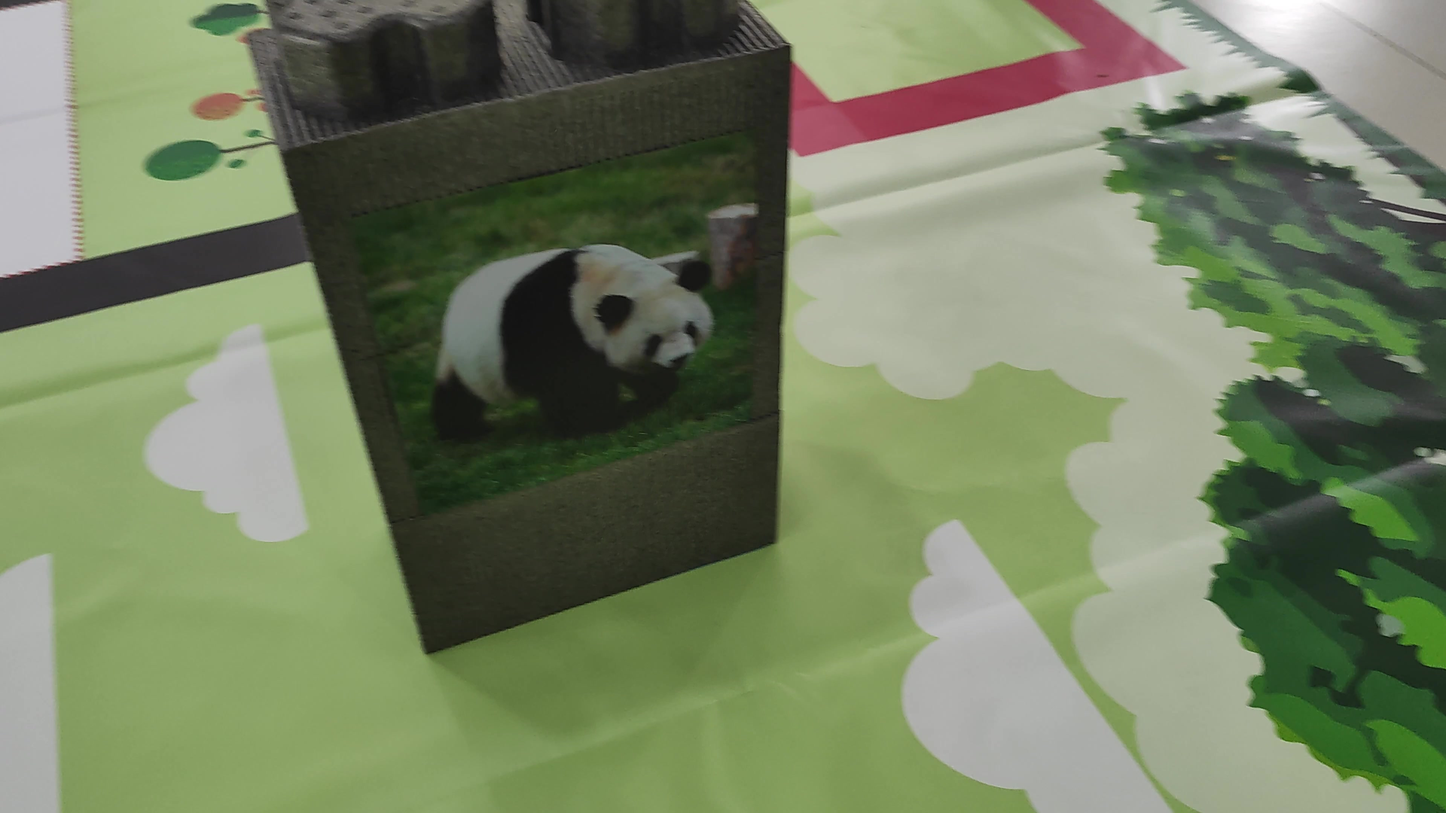panda: (423, 224, 751, 449)
